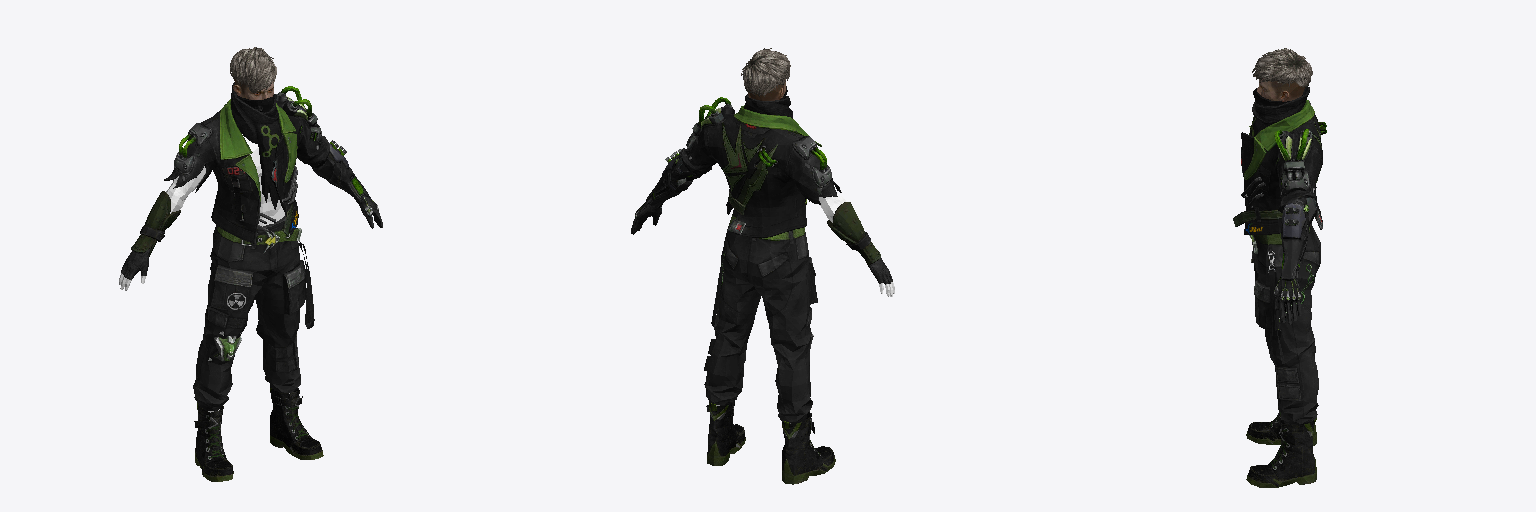
3 renders of one model, left to right at view 1: azimuth 30°, elevation 25°; view 2: azimuth 150°, elevation 25°; view 3: azimuth 270°, elevation 25°, orthographic.
Visible parts, largest first — view 1: male_lobby_top_cos_plague2, male_lobby_bottom_cos_plague2, male_lobby_shoe_cos_plague2, male_lobby_hair_cos_plague2; view 2: male_lobby_top_cos_plague2, male_lobby_bottom_cos_plague2, male_lobby_shoe_cos_plague2, male_lobby_hair_cos_plague2; view 3: male_lobby_top_cos_plague2, male_lobby_bottom_cos_plague2, male_lobby_shoe_cos_plague2, male_lobby_hair_cos_plague2, male_cos_head.
Part boxes in pixels (x1,y1,x2,y2): male_lobby_top_cos_plague2: (119, 82, 382, 290); male_lobby_bottom_cos_plague2: (193, 215, 314, 412); male_lobby_shoe_cos_plague2: (194, 388, 323, 481); male_lobby_hair_cos_plague2: (230, 47, 276, 92); male_lobby_top_cos_plague2: (631, 94, 894, 296); male_lobby_bottom_cos_plague2: (704, 209, 817, 423); male_lobby_shoe_cos_plague2: (706, 401, 835, 484); male_lobby_hair_cos_plague2: (741, 48, 790, 96); male_lobby_top_cos_plague2: (1233, 86, 1326, 324); male_lobby_bottom_cos_plague2: (1249, 223, 1320, 424); male_lobby_shoe_cos_plague2: (1246, 411, 1316, 487); male_lobby_hair_cos_plague2: (1252, 48, 1312, 87); male_cos_head: (1257, 78, 1304, 101).
Size of the model in its own units: 3.26 by 4.92 by 1.03.
7 materials, 6 textured.